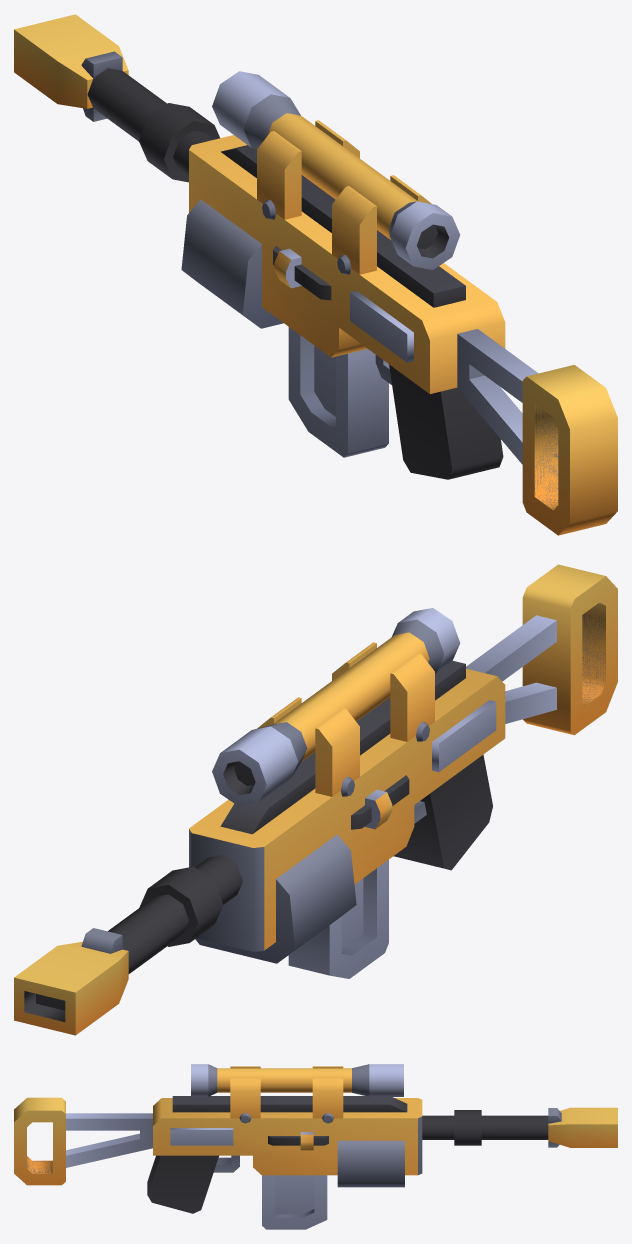
Rendered from blaster-e.glb.
The picture shows the model from 3 angles, top to bottom: view 1: azimuth 30°, elevation 25°; view 2: azimuth 150°, elevation 25°; view 3: azimuth 270°, elevation 25°; orthographic projection. The views are drawn at different scales.
Visible parts, largest first — view 1: blaster-e, scope, magazine; view 2: blaster-e, scope, magazine; view 3: blaster-e, scope, magazine.
Boxes of the visible parts, x1,y1,x2,y2 form: blaster-e: (14, 14, 617, 535); scope: (212, 71, 460, 274); magazine: (288, 327, 388, 457); blaster-e: (14, 564, 617, 1035); scope: (212, 608, 460, 806); magazine: (288, 859, 388, 978); blaster-e: (14, 1096, 617, 1213); scope: (191, 1064, 403, 1123); magazine: (262, 1175, 327, 1229).
Bounding box in the file's own units: 0.1664 × 0.405 × 1.39.
1 material, 1 textured.
